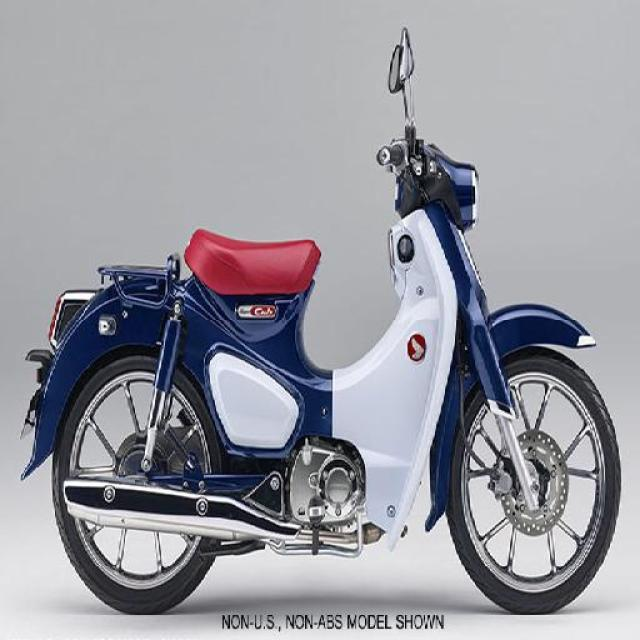All: (17, 26, 623, 612)
Head: (358, 124, 495, 248)
Tail: (24, 282, 109, 372)
